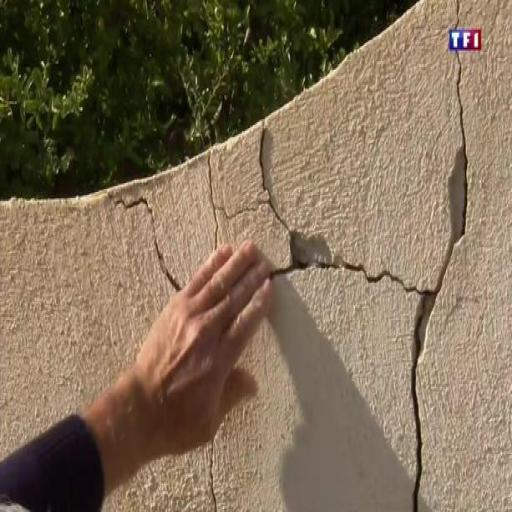spalling: (408, 64, 475, 510), (288, 249, 417, 307), (111, 193, 181, 292), (256, 116, 294, 237)
